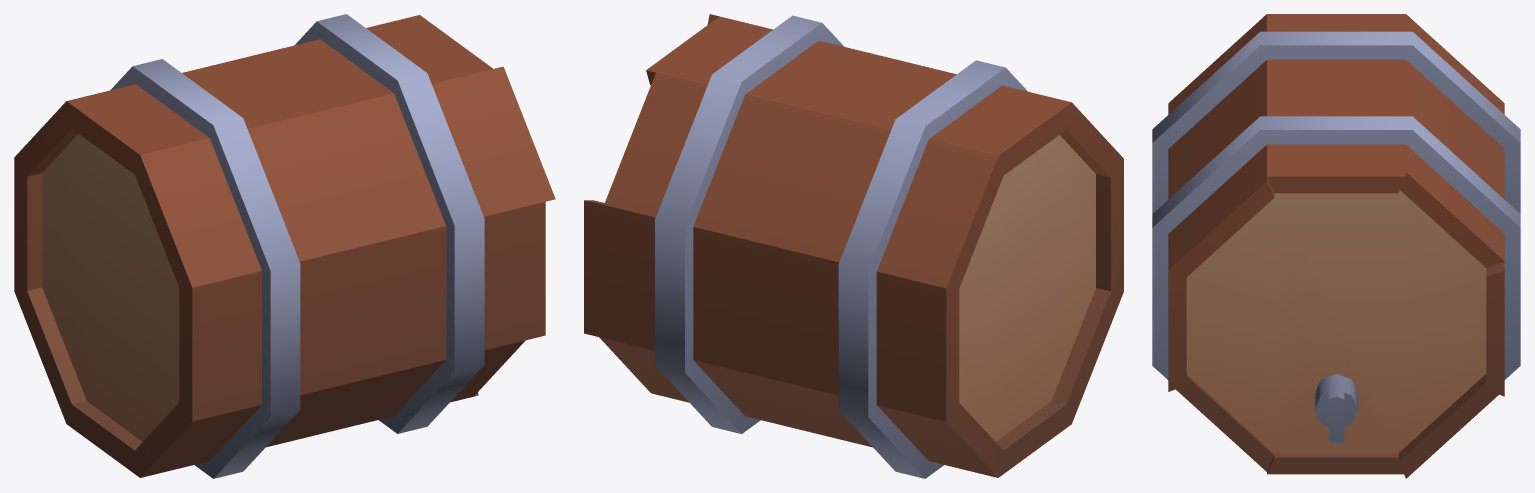
Rendered from barrel.glb.
The picture shows the model from 3 angles, left to right: view 1: azimuth 30°, elevation 25°; view 2: azimuth 150°, elevation 25°; view 3: azimuth 270°, elevation 25°; orthographic projection. The views are drawn at different scales.
Parts seen in each view (by area): view 1: barrel-2; view 2: barrel-2; view 3: barrel-2.
Part boxes in pixels (x1=…): barrel-2: x1=14, y1=14, x2=555, y2=478; barrel-2: x1=584, y1=14, x2=1123, y2=478; barrel-2: x1=1152, y1=14, x2=1520, y2=478.
Size of the model in its own units: 0.76 by 0.6789 by 0.6789.
